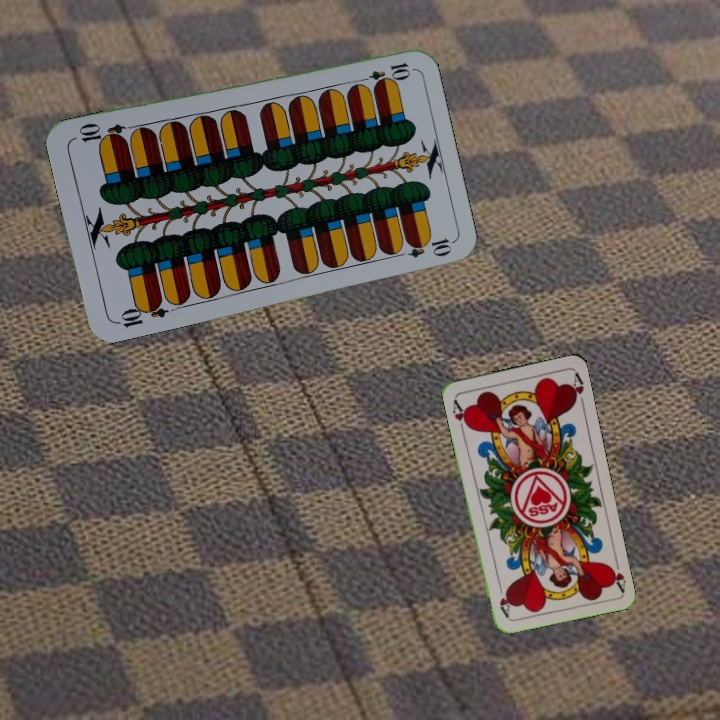E10: (112, 295, 170, 330), (354, 58, 413, 87)
HA: (448, 394, 472, 435), (605, 553, 628, 594)
